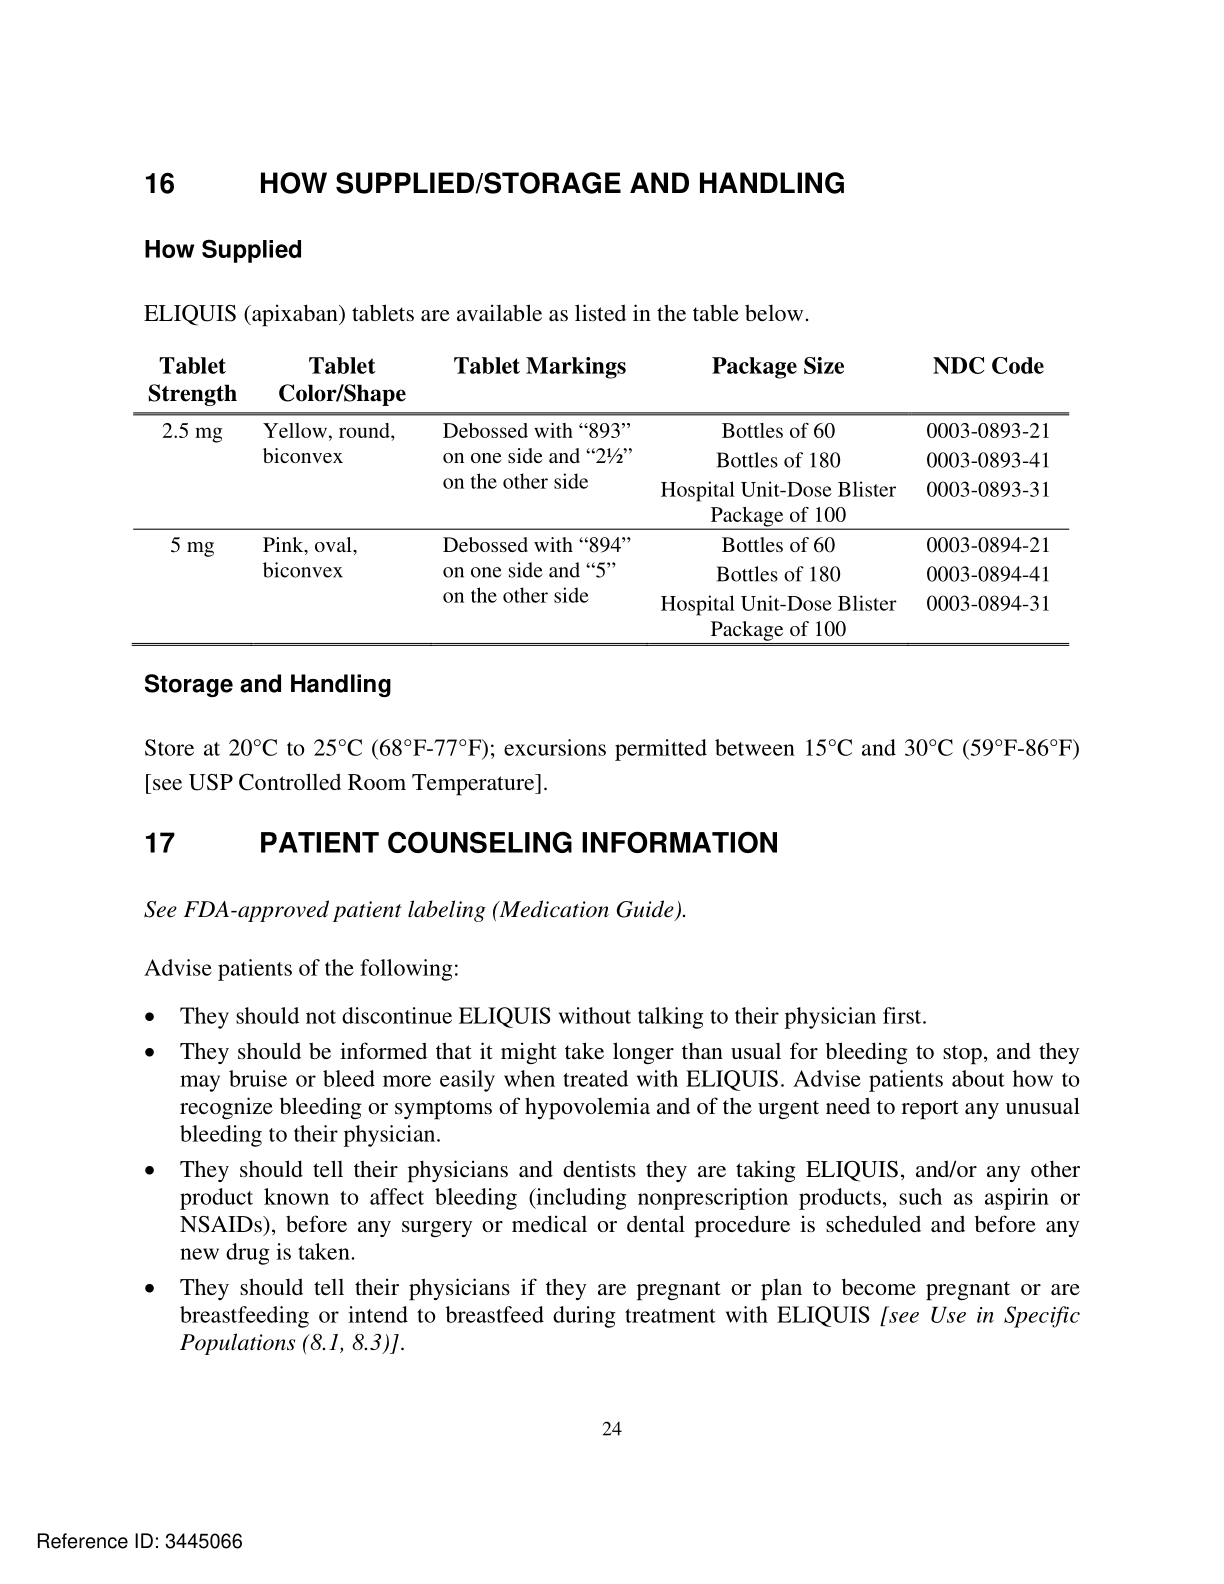partial_lined: (130, 345, 1071, 647)
